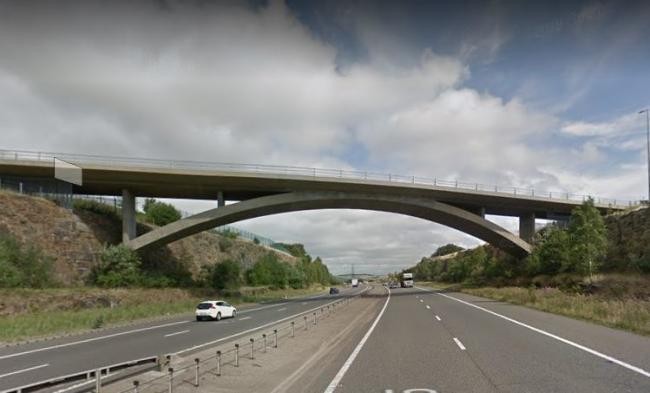bridge: (1, 152, 628, 261)
